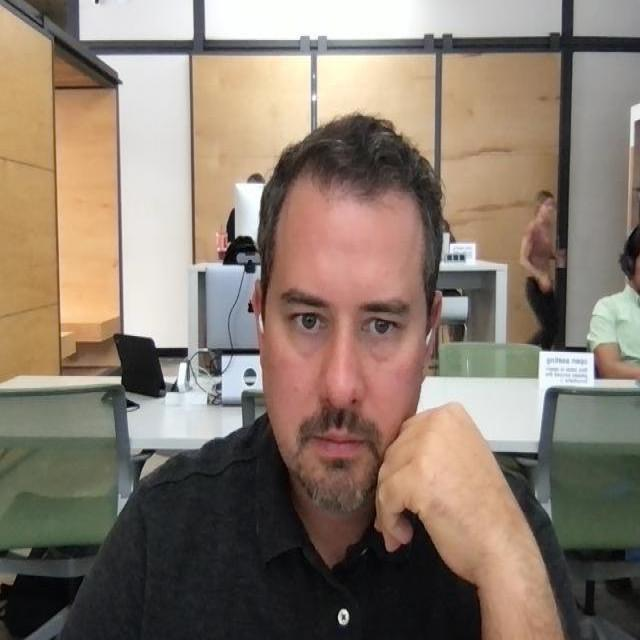face: (258, 113, 443, 519), (533, 187, 557, 229)
